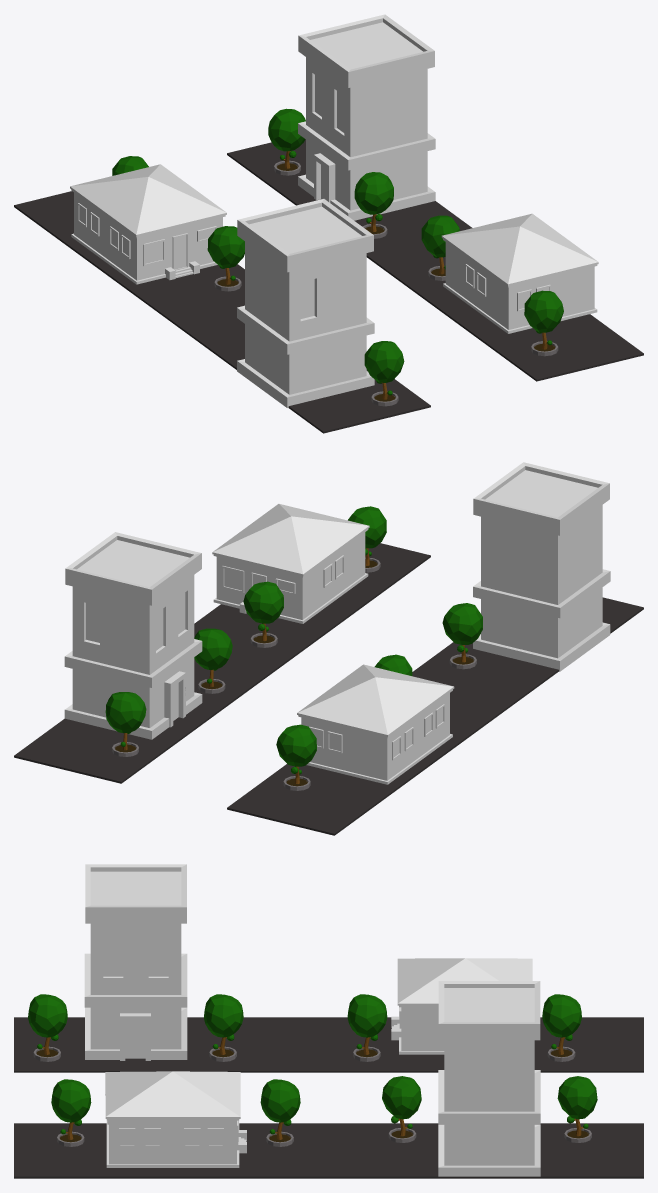
The model's file is taemplate_b_002.fbx.
The picture shows the model from 3 angles, top to bottom: view 1: azimuth 30°, elevation 25°; view 2: azimuth 150°, elevation 25°; view 3: azimuth 270°, elevation 25°; orthographic projection.
Parts seen in each view (by area): view 1: house.005, house.008, Cube.002, house.007, Cube.001, house.006, tree.015, tree.012, tree.014, tree.016, tree.010, tree.013; view 2: house.005, house.008, Cube.002, Cube.001, house.007, house.006, tree.011, tree.013, tree.009, tree.016, tree.015, tree.014 (+1 smaller); view 3: Cube.002, house.005, house.008, Cube.001, house.006, house.007, tree.014, tree.011, tree.009, tree.012, tree.010, tree.013 (+2 smaller).
Boxes of the visible parts, x1,y1,x2,y2 form: house.005: (237,199,374,407); house.008: (298,14,435,220); Cube.002: (227,139,643,381); house.007: (70,164,226,284); Cube.001: (14,191,430,433); house.006: (441,213,598,333); tree.015: (354,172,393,238); tree.012: (364,341,404,406); tree.014: (524,290,563,356); tree.016: (268,108,305,175); tree.010: (207,226,244,291); tree.013: (421,215,459,280); house.005: (473,462,610,671); house.008: (64,532,202,739); Cube.002: (14,543,430,783); Cube.001: (227,597,643,835); house.007: (297,664,454,784); house.006: (212,504,369,623); tree.011: (276,724,316,790); tree.013: (243,581,283,647); tree.009: (442,603,482,669); tree.016: (105,692,146,756); tree.015: (194,628,232,693); tree.014: (348,506,386,572); Cube.002: (14,1123,643,1178); house.005: (84,864,187,1060); house.008: (438,981,540,1176); Cube.001: (14,1017,643,1072); house.006: (105,1071,246,1167); house.007: (391,958,532,1054); tree.014: (51,1079,91,1146); tree.011: (542,994,581,1061); tree.009: (203,994,243,1061); tree.012: (28,994,67,1061); tree.010: (347,994,387,1061); tree.013: (260,1079,300,1146).
Bounding box in the file's own units: 894 × 403 × 1489.
